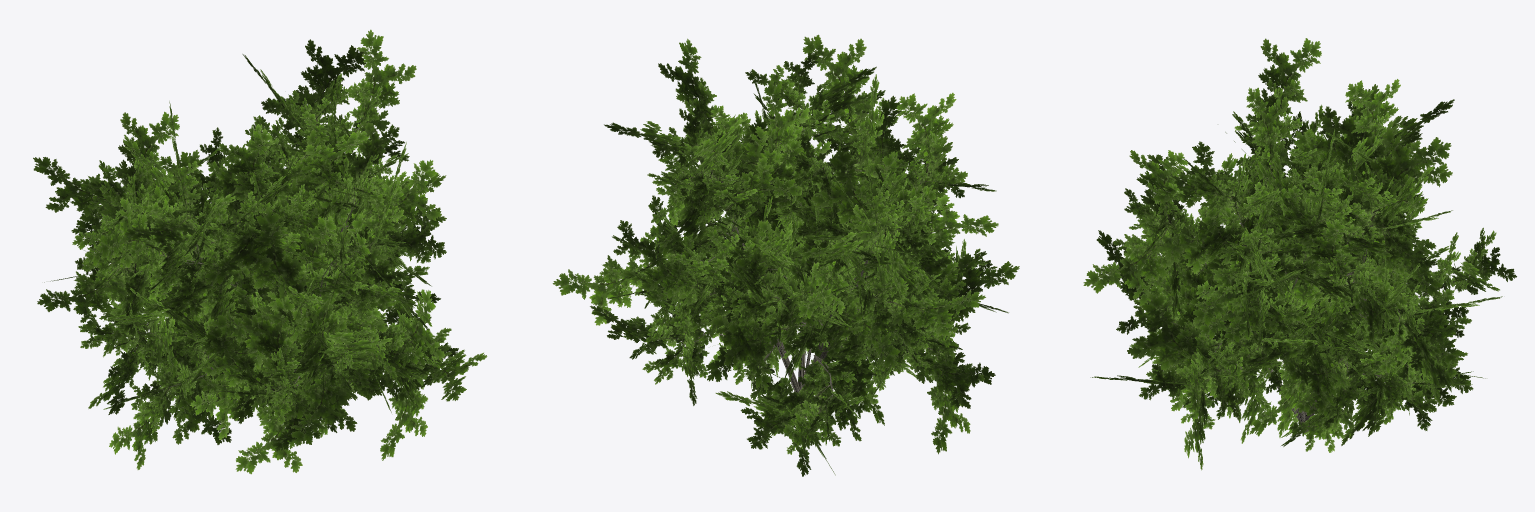
File: tree_scrub_oak.glb
3 views of the same model, side by side, from view 1: azimuth 30°, elevation 25°; view 2: azimuth 150°, elevation 25°; view 3: azimuth 270°, elevation 25° (orthographic).
Visible parts, largest first — view 1: LOD1_leaves, LOD0_leaves; view 2: LOD1_leaves, LOD0_leaves, LOD0_trunk, LOD1_trunk; view 3: LOD1_leaves, LOD0_leaves.
Boxes of the visible parts, box(x1,y1,x2,y2) form: LOD1_leaves: box(33, 29, 487, 474); LOD0_leaves: box(74, 78, 455, 433); LOD1_leaves: box(552, 34, 1019, 476); LOD0_leaves: box(599, 75, 992, 448); LOD0_trunk: box(673, 113, 938, 419); LOD1_trunk: box(671, 121, 938, 408); LOD1_leaves: box(1083, 38, 1516, 470); LOD0_leaves: box(1120, 73, 1491, 433).
Bounding box in the file's own units: 3.92 × 3.67 × 3.69.
2 materials, 2 textured.
